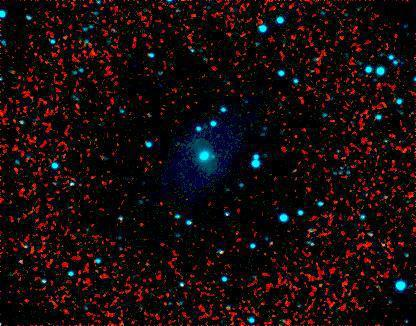star: (198, 143, 228, 173)
